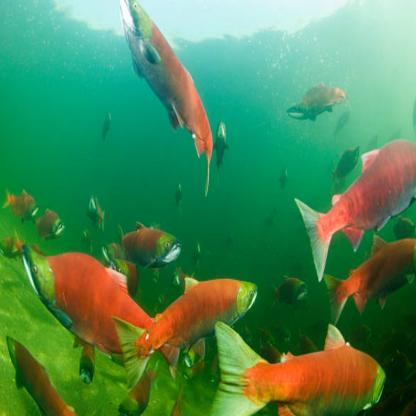sockeye: (302, 136, 416, 298), (192, 328, 379, 416), (118, 0, 215, 163), (18, 238, 148, 353), (121, 272, 257, 368), (116, 216, 178, 270)
